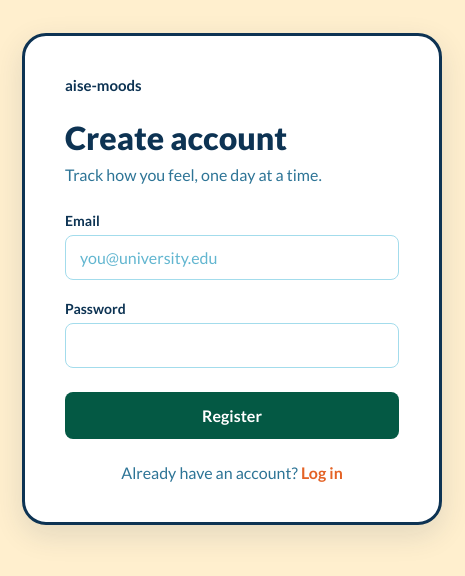
Test: Register screen › Input validation › shows error when password is empty
Type "user@example.com" into the field labelled "Email" at point(232, 258), box left=65, top=235, right=399, bottom=280
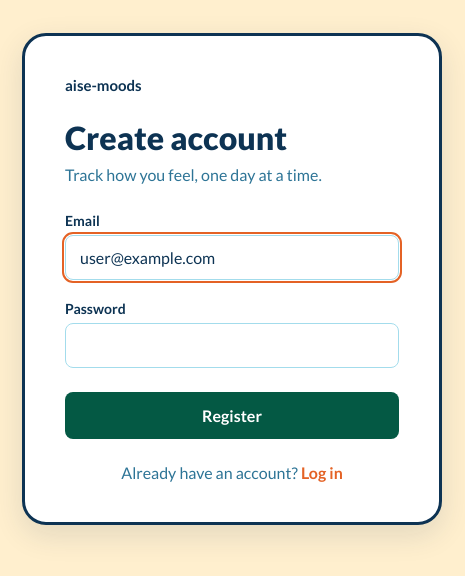
Click the button "Register" at point(232, 416), box left=65, top=392, right=399, bottom=439
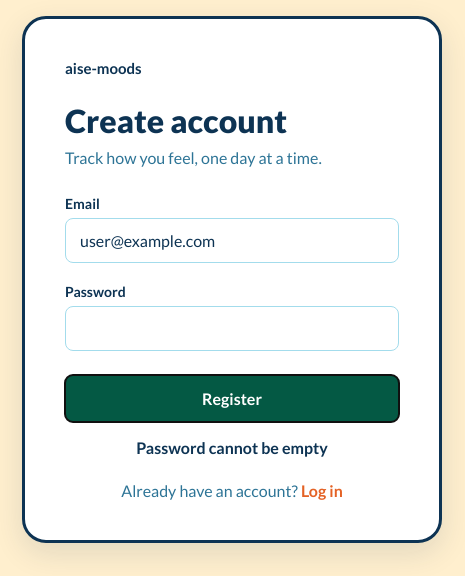
Result: the text "Password cannot be empty" is shown at left=136, top=438, right=328, bottom=456
